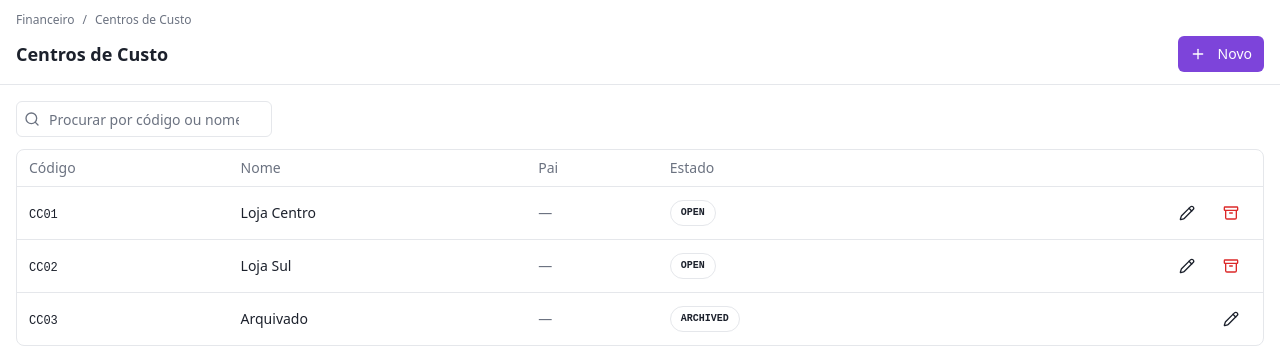
Scenario: CostCentersPage (F28-FIN B.2) › search filtra por código/nome
The image size is (1280, 363).
Expected: the text "CC01" is shown, [29,208,58,222]
Type "Sul" into the field with placeholder "Procurar por código ou nome…" at (144, 119), box [16,101,272,137]
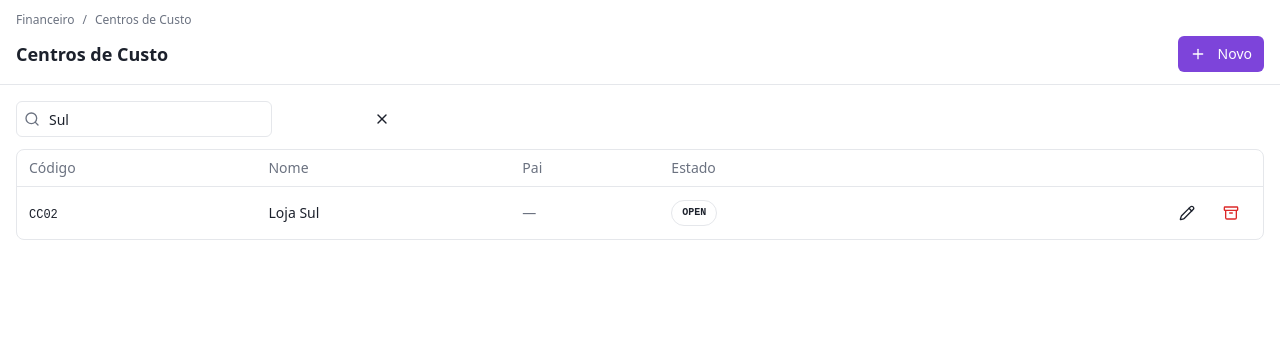
Expected: the text "Loja Sul" is shown, [256,186,510,239]
Expected: the text "Loja Centro" is gone
